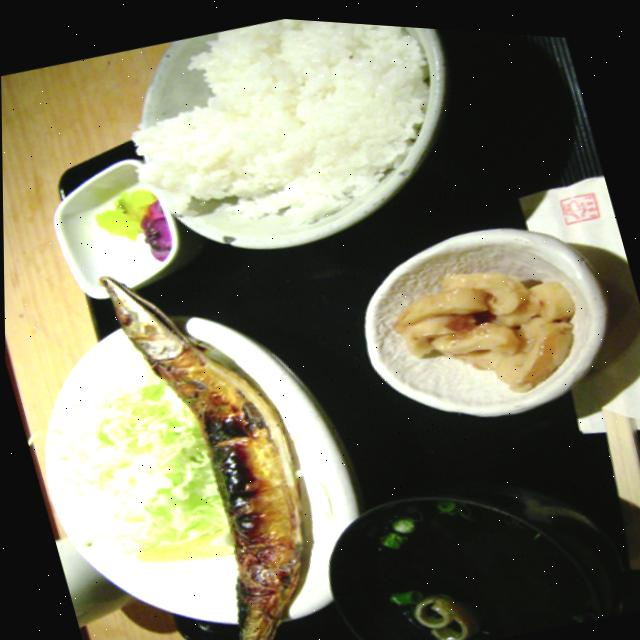熟制海鲜: (68, 233, 358, 640)
